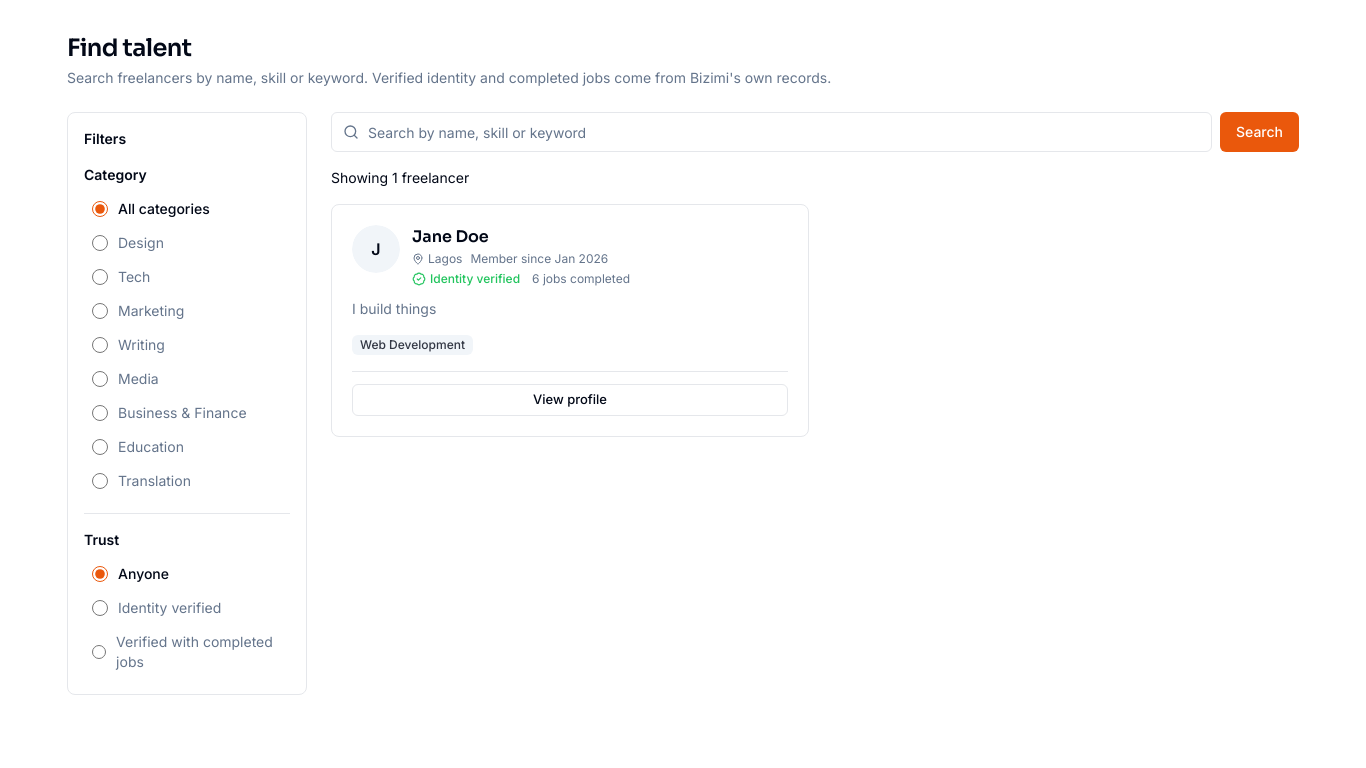
Test case: FindFreelancers › renders freelancer cards and opens the profile modal on 'View profile'
Expected: the heading "Jane Doe" is shown, [412,226,489,247]
Click the button "View profile" at (570,400), box [352,384,788,416]
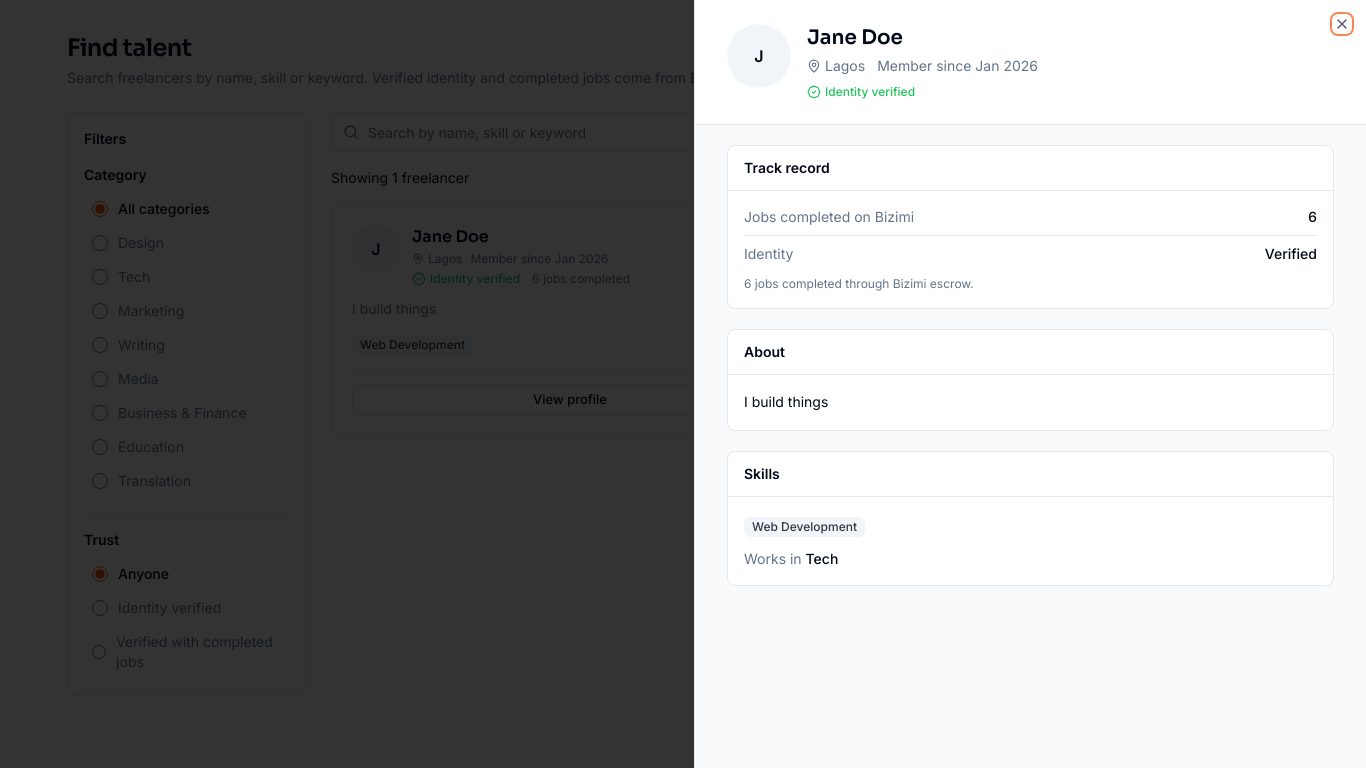
Expected: the heading "About" is shown, [744,342,785,362]
